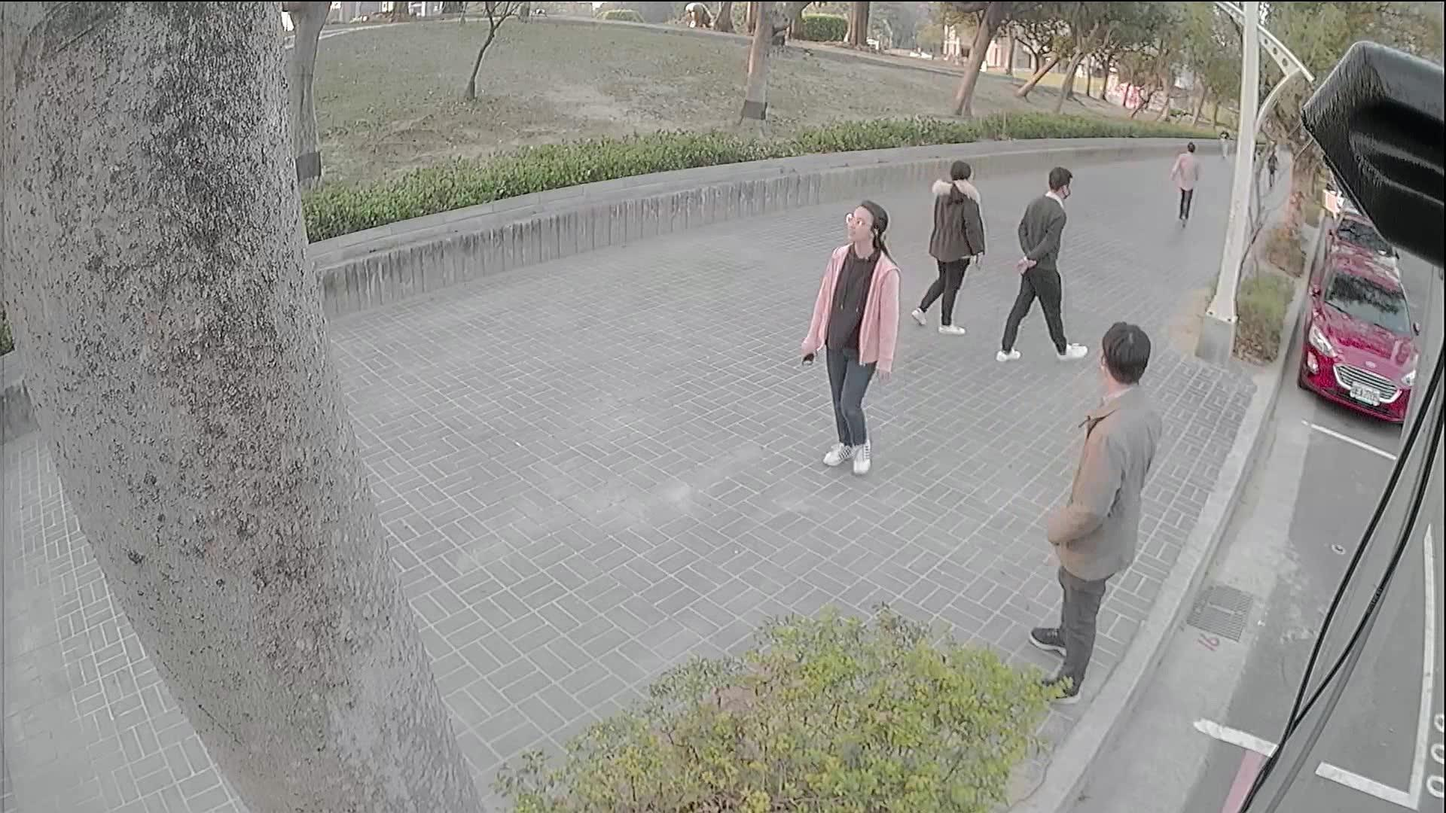person: (1035, 325, 1159, 691), (804, 202, 897, 473), (997, 161, 1086, 361), (935, 163, 983, 254), (1170, 141, 1199, 227)
